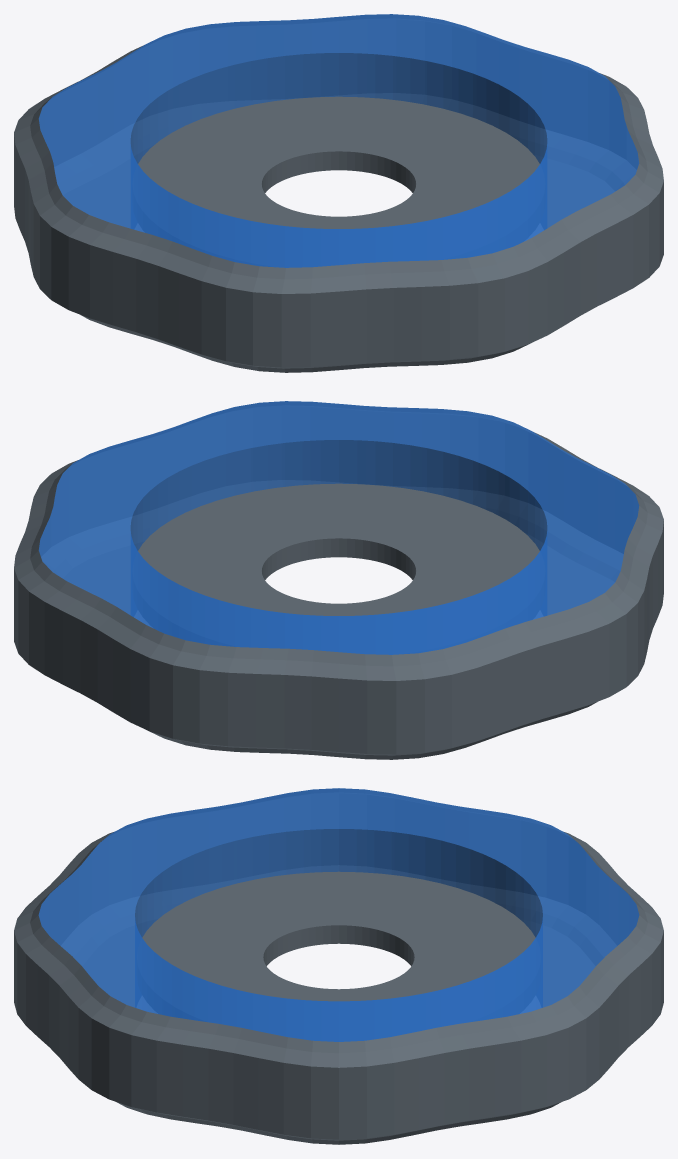
Rendered from gear_high.glb.
3 views of the same model, one above another, from view 1: azimuth 30°, elevation 25°; view 2: azimuth 150°, elevation 25°; view 3: azimuth 270°, elevation 25° (orthographic). The views are drawn at different scales.
Visible parts, largest first — view 1: GEO_gear_high_BODY, GEO_gear_high_NSS_V1_COLLAR; view 2: GEO_gear_high_BODY, GEO_gear_high_NSS_V1_COLLAR; view 3: GEO_gear_high_BODY, GEO_gear_high_NSS_V1_COLLAR.
Part boxes in pixels (x1=…): GEO_gear_high_BODY: x1=14, y1=14, x2=663, y2=372; GEO_gear_high_NSS_V1_COLLAR: x1=138, y1=96, x2=539, y2=228; GEO_gear_high_BODY: x1=14, y1=401, x2=663, y2=759; GEO_gear_high_NSS_V1_COLLAR: x1=138, y1=483, x2=539, y2=615; GEO_gear_high_BODY: x1=14, y1=788, x2=663, y2=1144; GEO_gear_high_NSS_V1_COLLAR: x1=142, y1=871, x2=535, y2=1001.
Size of the model in its own units: 0.0344 by 0.006 by 0.0344.
